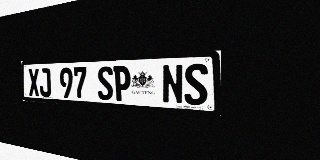7: (73, 67, 87, 99)
9: (59, 67, 73, 98)
J: (39, 68, 51, 97)
N: (162, 64, 183, 104)
P: (113, 66, 131, 102)
S: (184, 63, 208, 106), (97, 66, 113, 101)
X: (28, 68, 40, 96)
